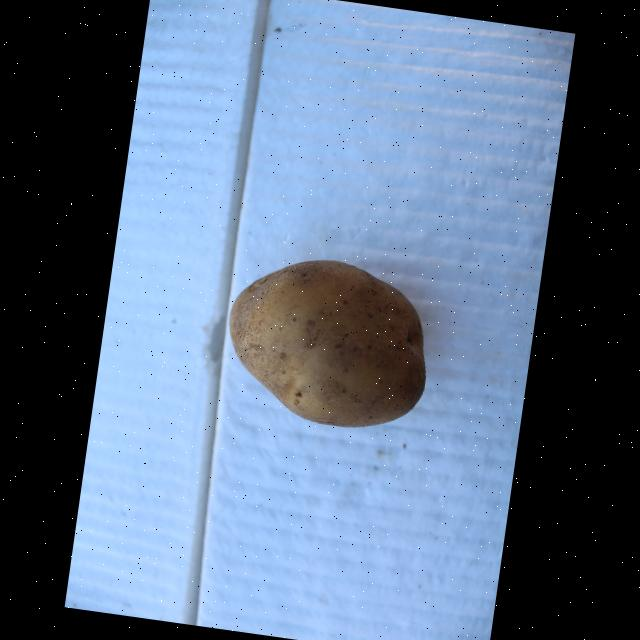Diseased-fungal potato: (212, 240, 450, 442)
